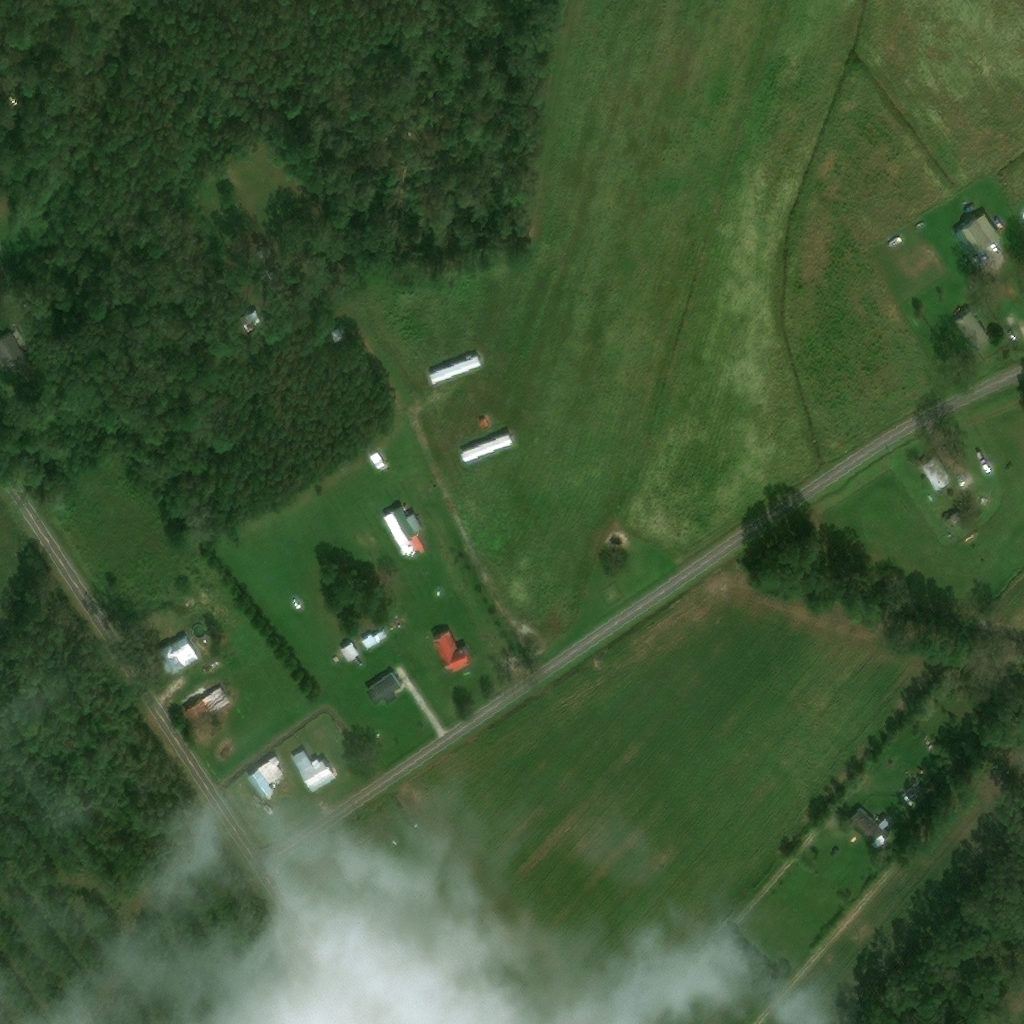no_damage: (381, 502, 429, 560), (427, 626, 476, 675), (844, 805, 897, 850), (182, 684, 234, 728), (289, 747, 338, 793), (951, 211, 999, 257), (424, 351, 482, 387), (950, 307, 994, 354), (457, 429, 514, 465), (155, 633, 200, 675), (247, 754, 285, 796), (1, 331, 30, 376), (366, 671, 404, 704), (919, 454, 950, 487), (237, 299, 264, 331), (360, 628, 390, 649), (900, 779, 925, 804), (325, 326, 348, 352), (340, 638, 361, 663), (942, 510, 967, 529), (387, 617, 406, 635), (369, 450, 386, 469), (478, 416, 493, 432), (975, 497, 989, 510), (933, 482, 947, 493)
